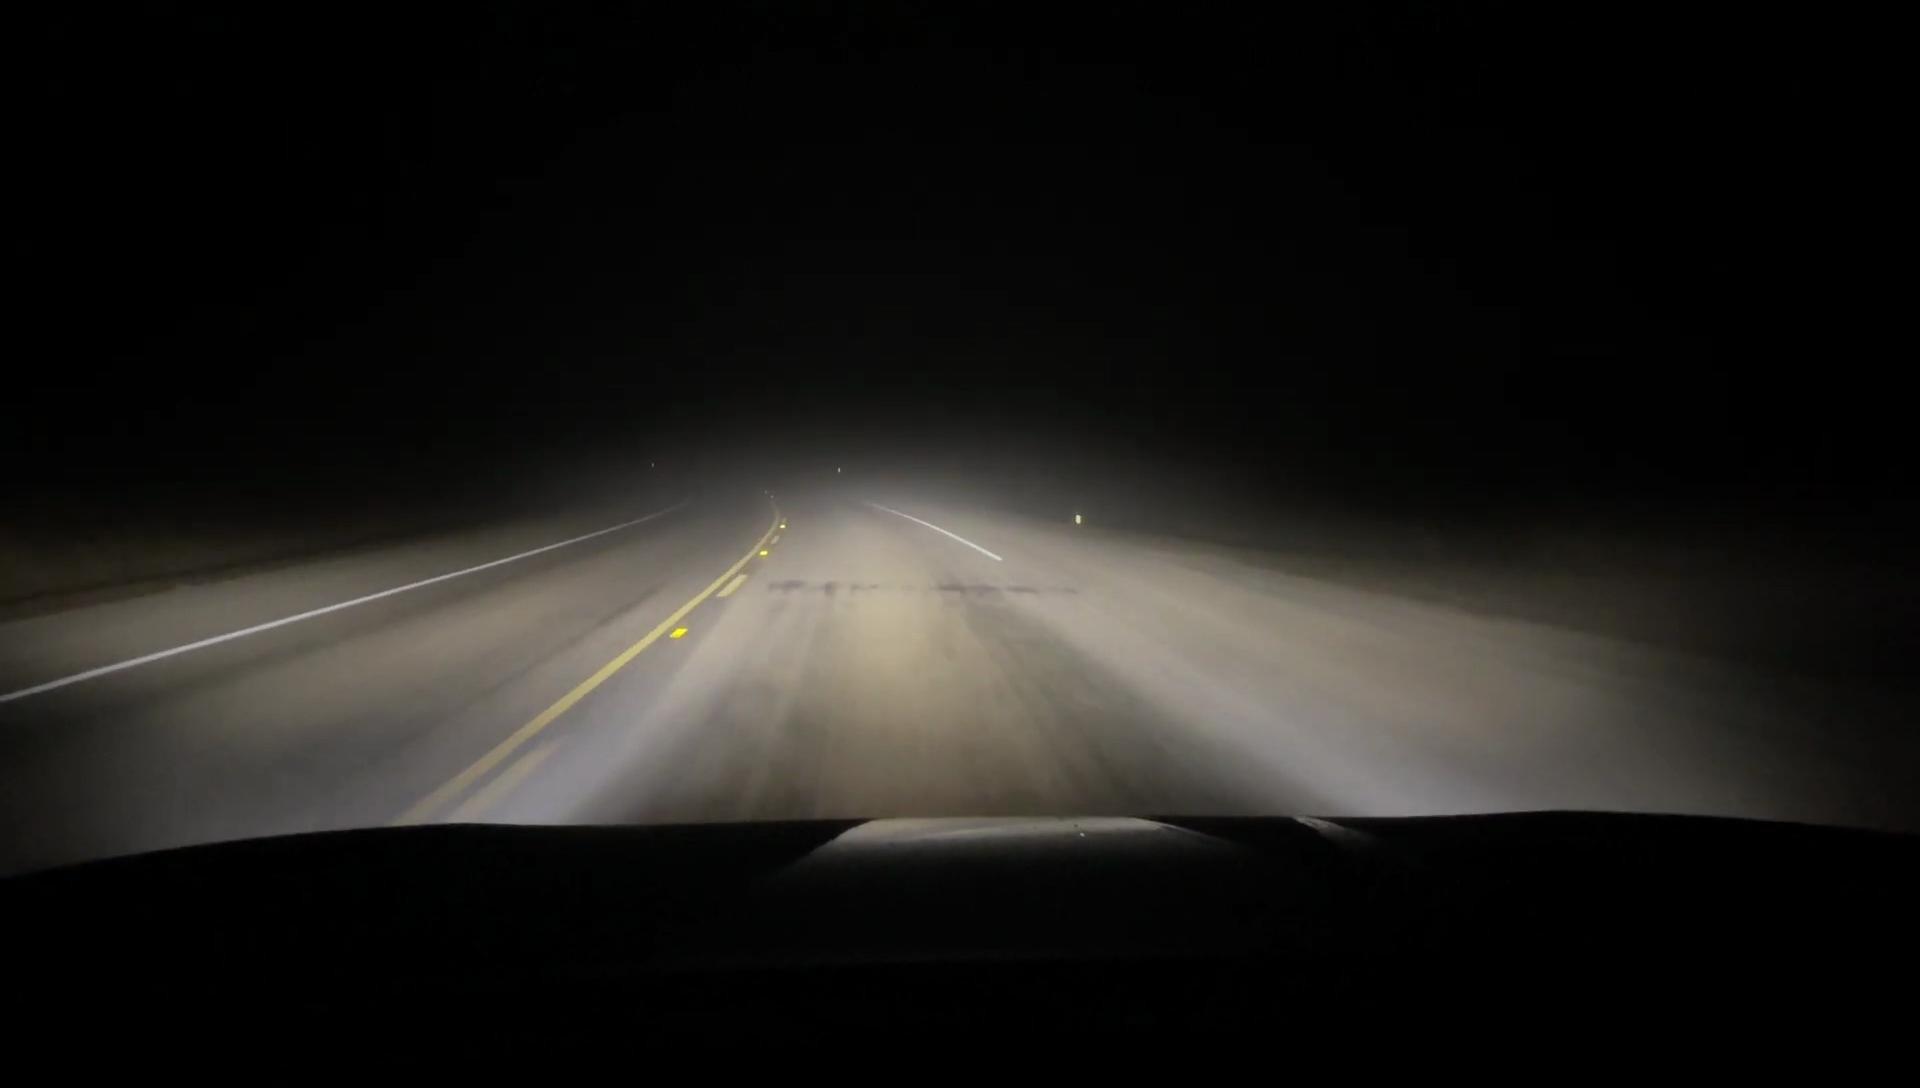road-lanes: (434, 514, 1582, 837)
